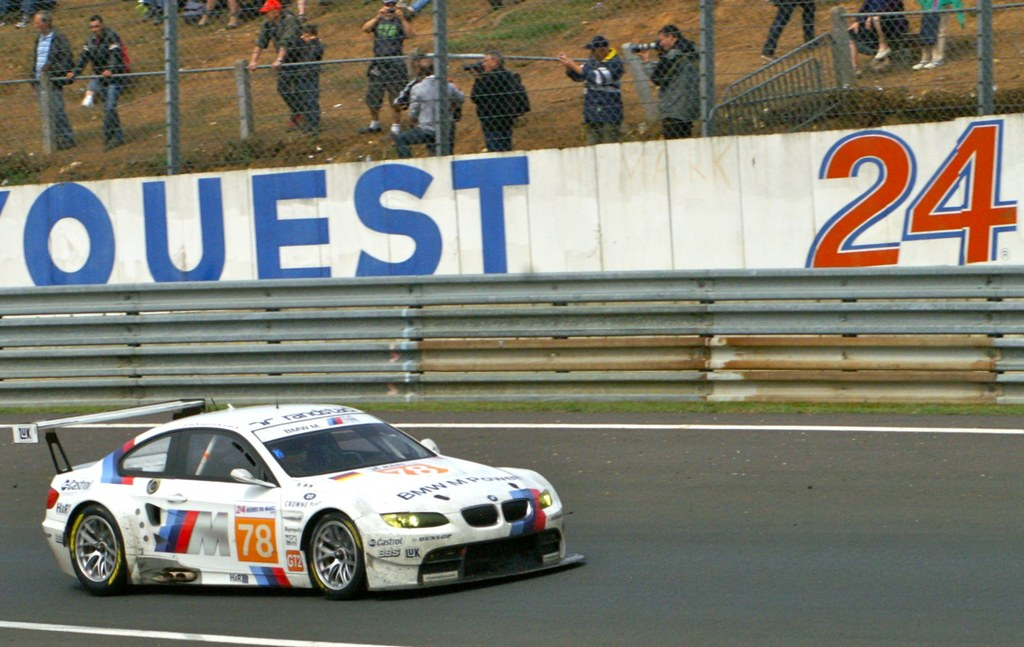Car: (38, 392, 589, 596)
